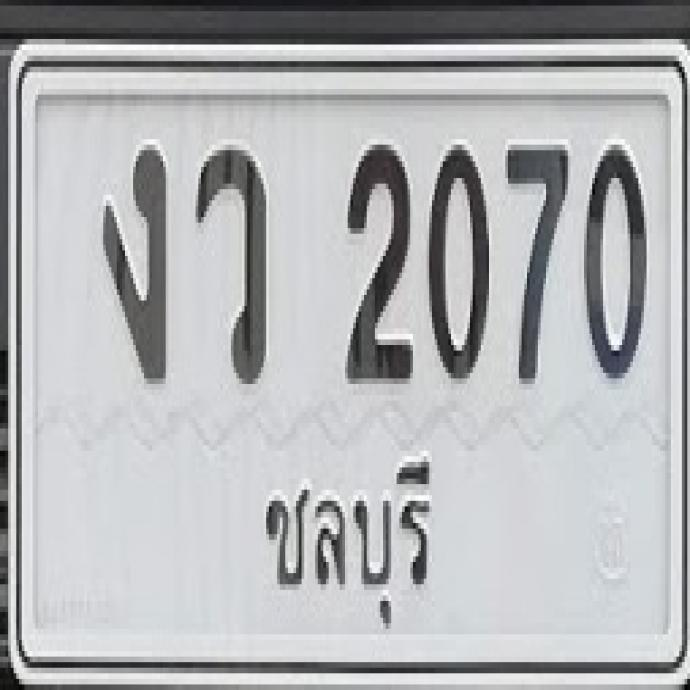0: (582, 140, 644, 379), (426, 140, 487, 379)
2: (345, 139, 411, 380)
7: (505, 138, 568, 383)
A07: (101, 141, 166, 380)
A37: (194, 143, 265, 380)
CBI: (249, 439, 440, 636)
